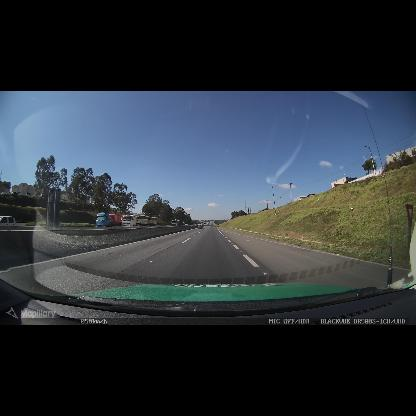R-2: (405, 205, 413, 227)
